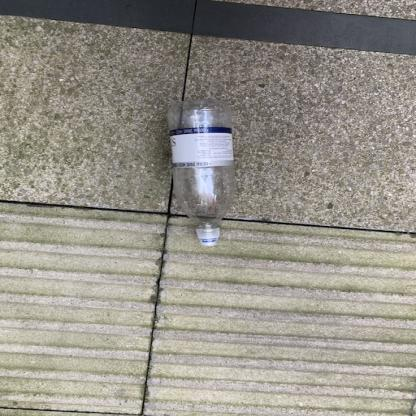trash: (163, 98, 238, 250)
